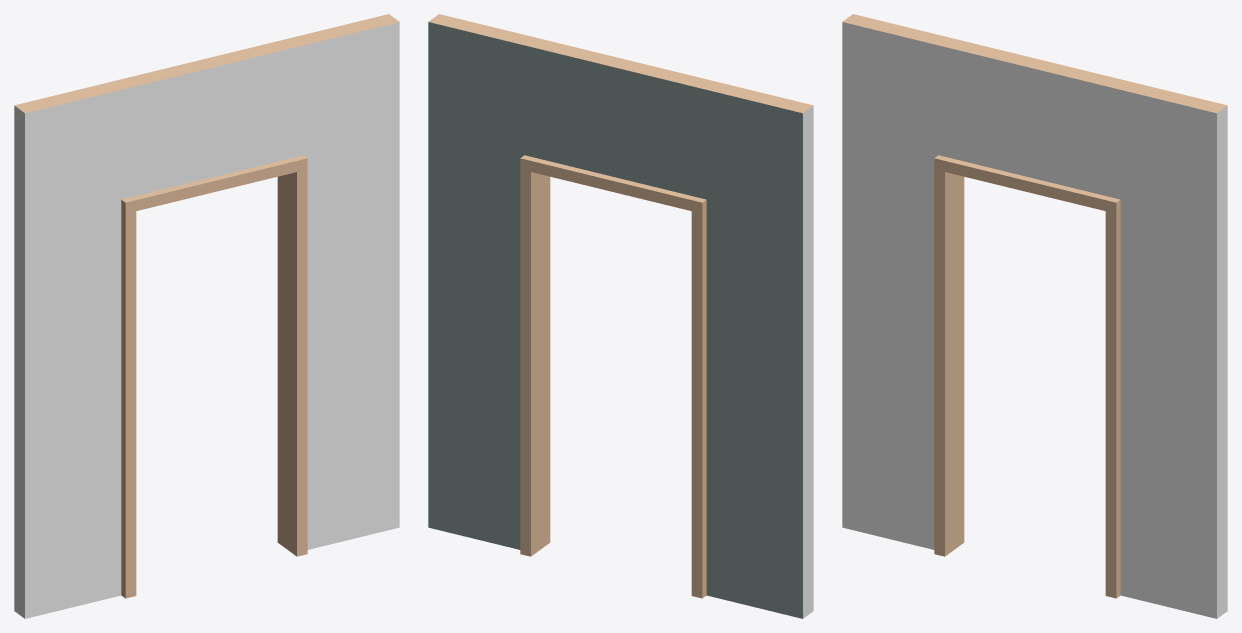
Rendered from wall_doorway$col.glb.
3 renders of one model, left to right at view 1: azimuth 30°, elevation 25°; view 2: azimuth 150°, elevation 25°; view 3: azimuth 330°, elevation 25°, orthographic.
Parts seen in each view (by area): view 1: wallDoorway(Clone)$col; view 2: wallDoorway(Clone)$col; view 3: wallDoorway(Clone)$col.
Boxes of the visible parts, bbox=[...] form: wallDoorway(Clone)$col: bbox=[14, 14, 399, 618]; wallDoorway(Clone)$col: bbox=[428, 14, 813, 618]; wallDoorway(Clone)$col: bbox=[842, 14, 1227, 618].
Bounding box in the file's own units: 1 × 1.29 × 0.0891.
